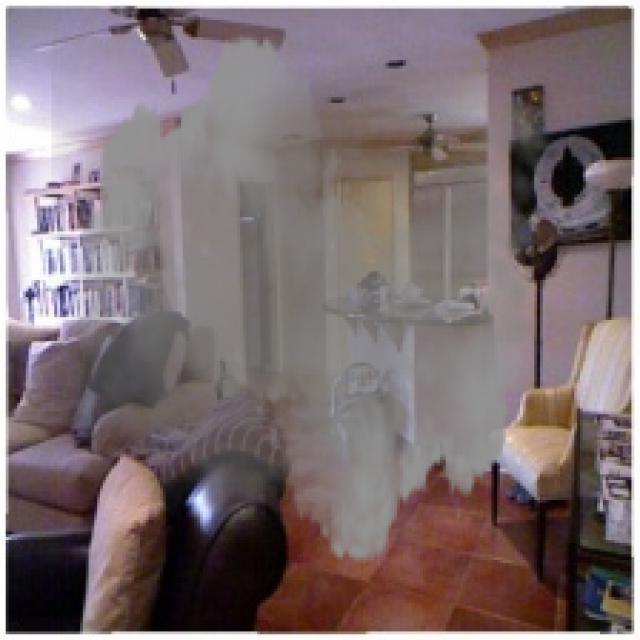smoke: (51, 17, 568, 580)
